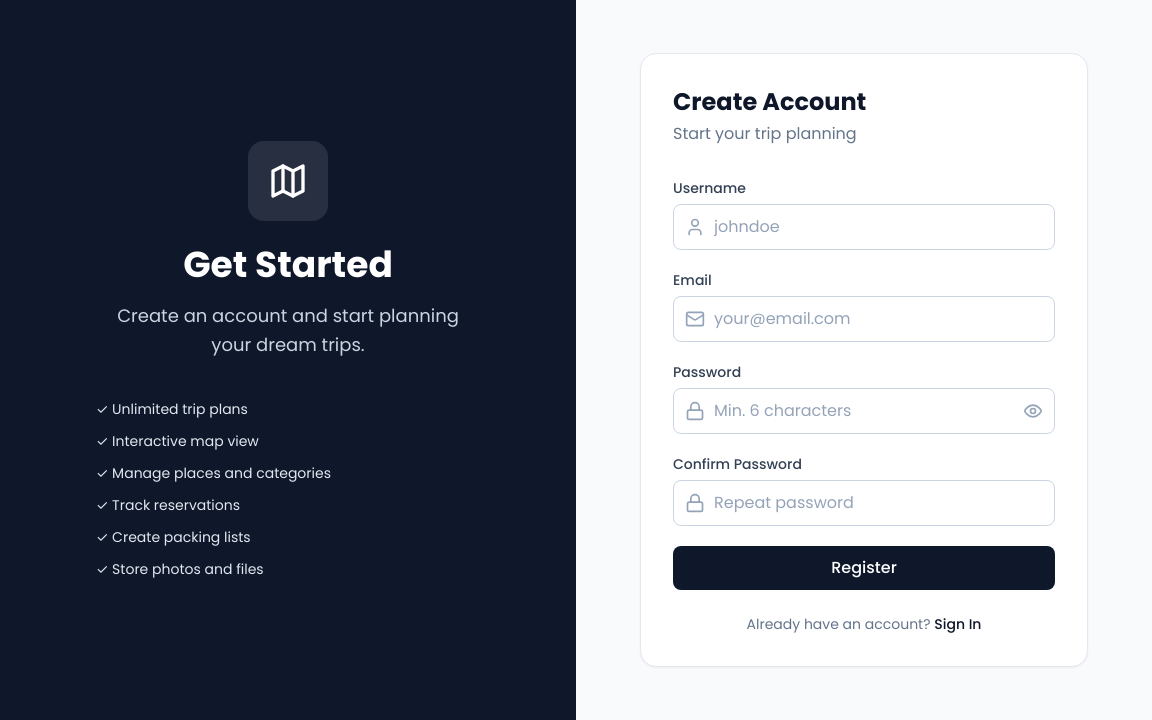
Test: RegisterPage › FE-PAGE-REG-003: Password too short shows error › displays length error when passwords are the same but too short
In the field with placeholder "johndoe": (864, 227) [673,204,1055,250], type "testuser"
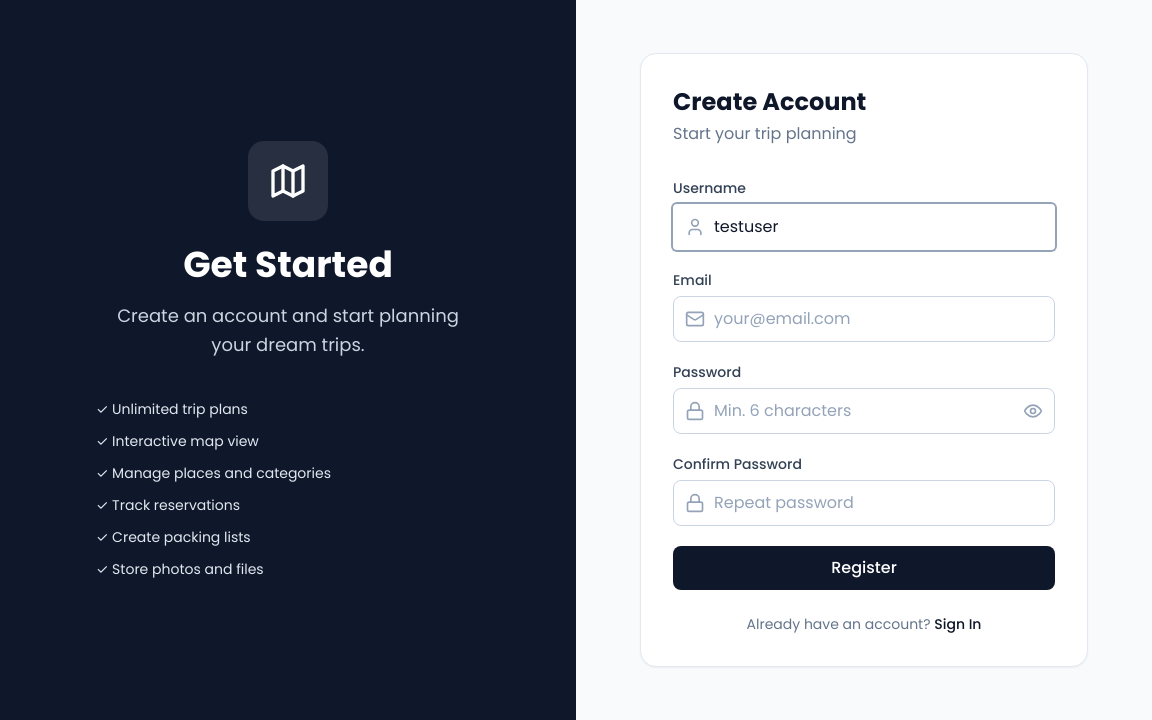
In the field with placeholder "your@email.com": (864, 319) [673,296,1055,342], type "test@example.com"
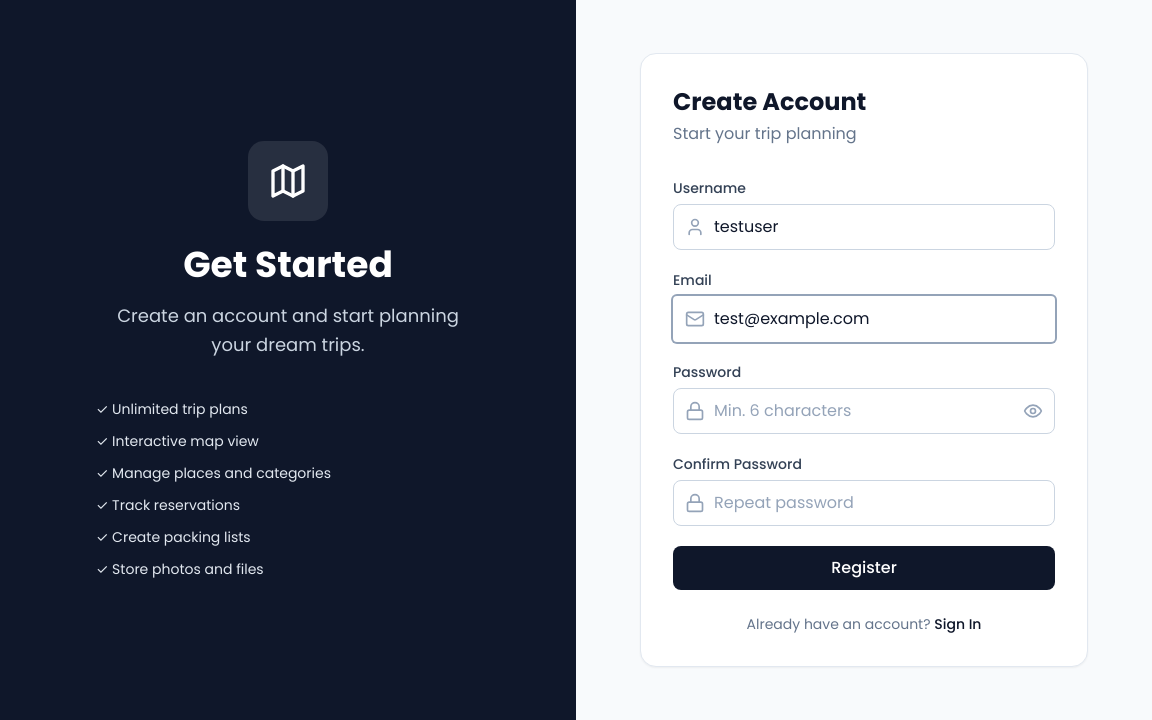
In the password field with placeholder "Min. 6 characters": (864, 411) [673,388,1055,434], type "abc"
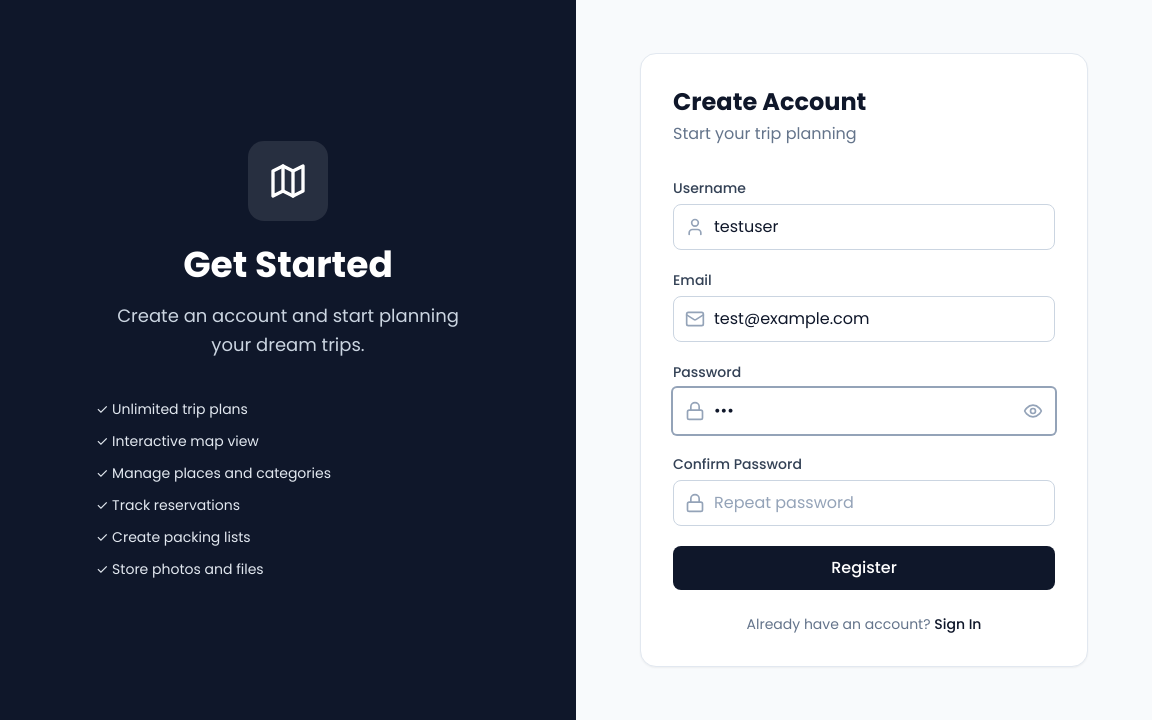
In the password field with placeholder "Repeat password": (864, 503) [673,480,1055,526], type "abc"
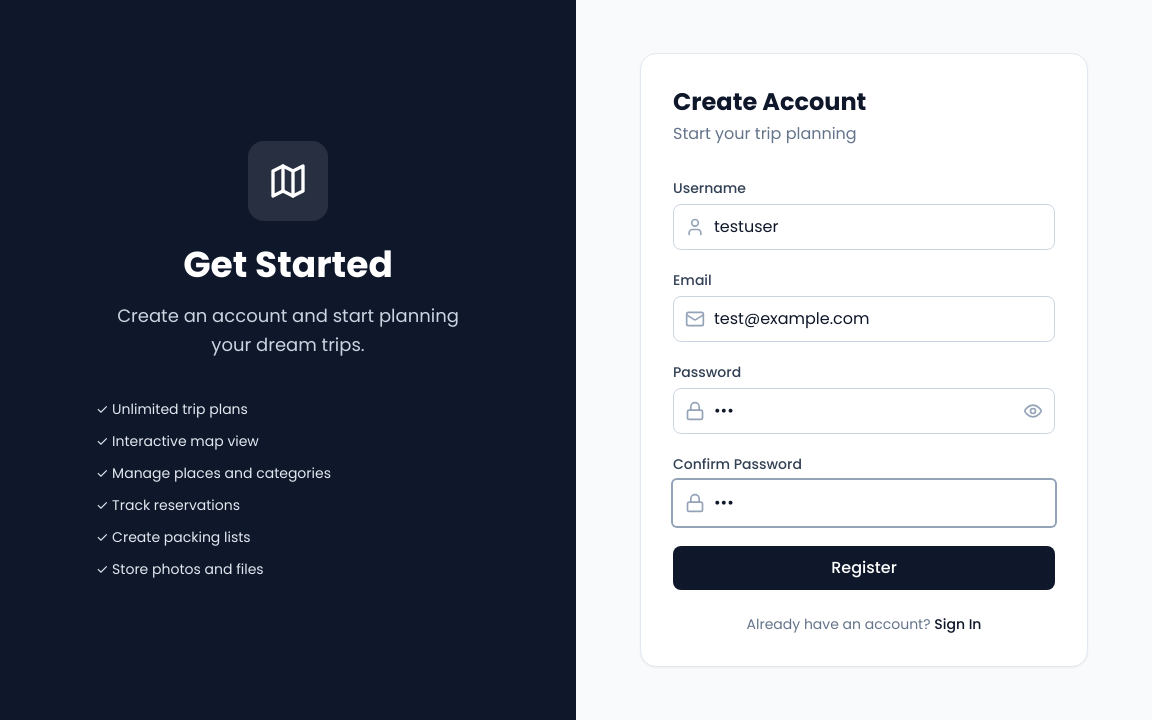
Click the button "Register": (864, 568) [673,546,1055,590]
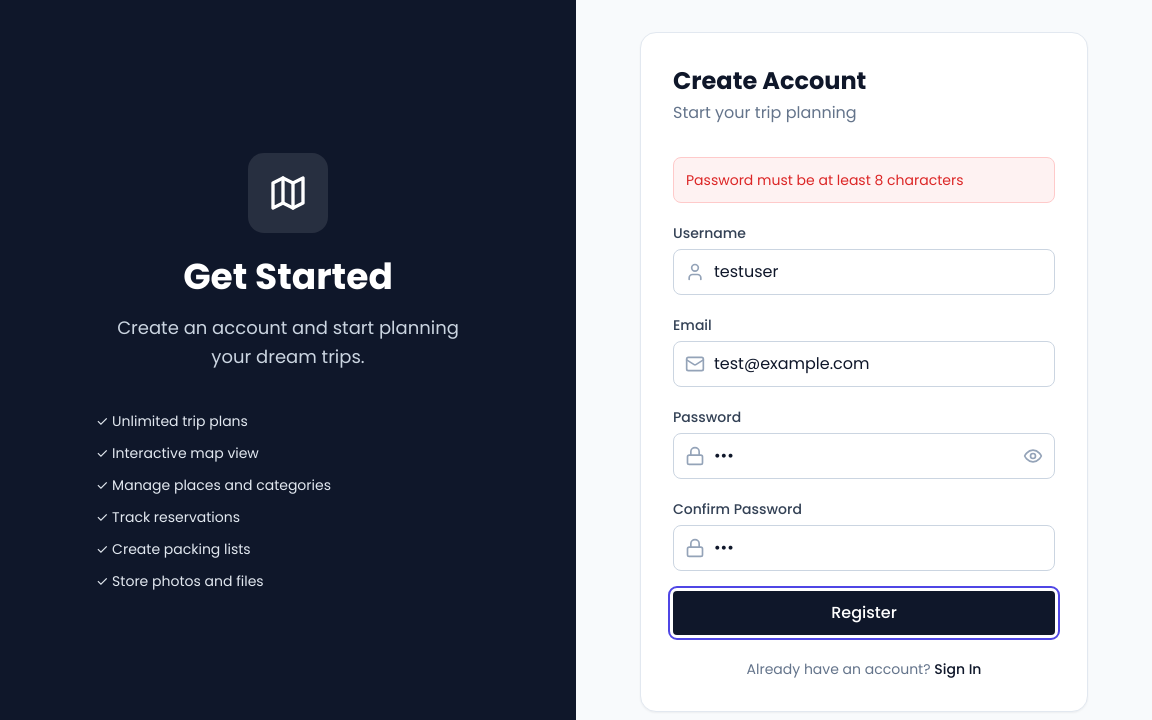
expect the text "Password must be at least 8 characters" is shown: met, box [673,157,1055,203]
